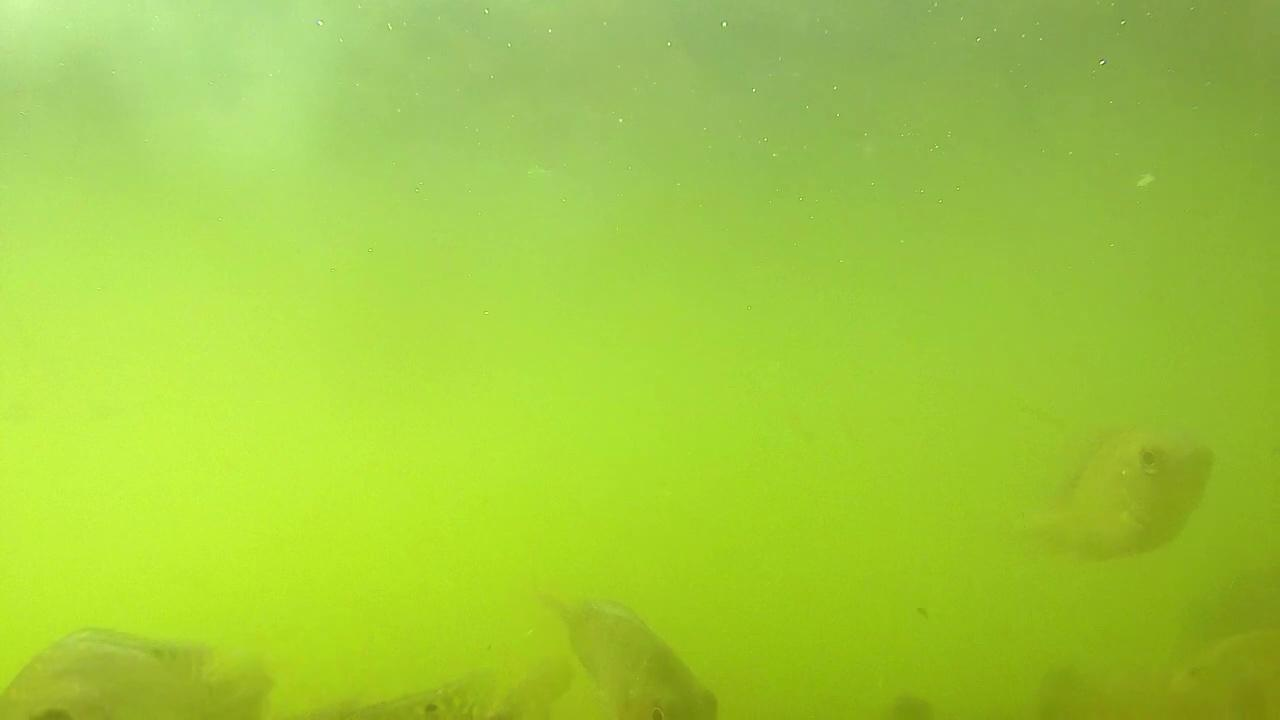Tilapia: (1021, 412, 1214, 584), (1, 616, 282, 720), (543, 582, 736, 720)
